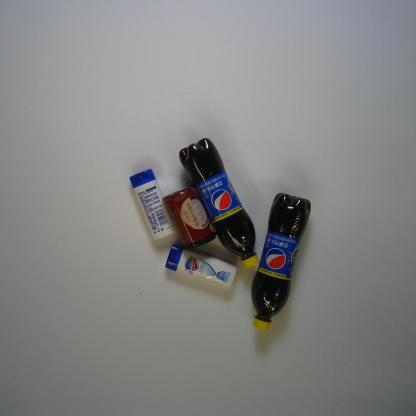Canned Food: (162, 183, 217, 251)
Drink: (178, 137, 260, 270), (250, 191, 312, 333)
Personal Hygiene: (164, 243, 238, 291), (129, 168, 176, 241)
